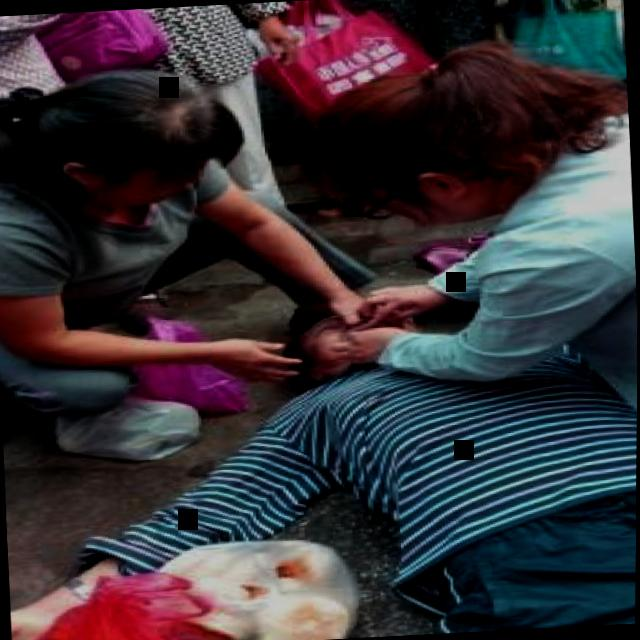Fall-Detected: (0, 258, 638, 640)
